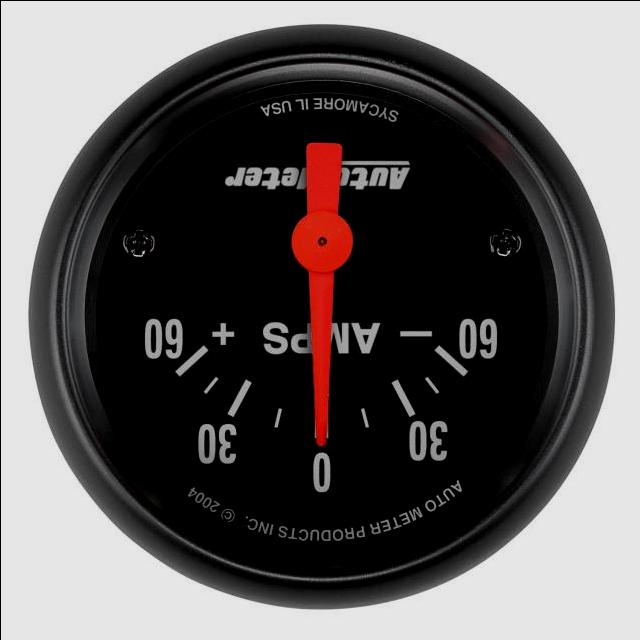Needle_Tip: (300, 379, 345, 456)
Needle_base: (271, 202, 381, 285)
max_value: (112, 301, 245, 362)
min_value: (388, 296, 523, 375)
